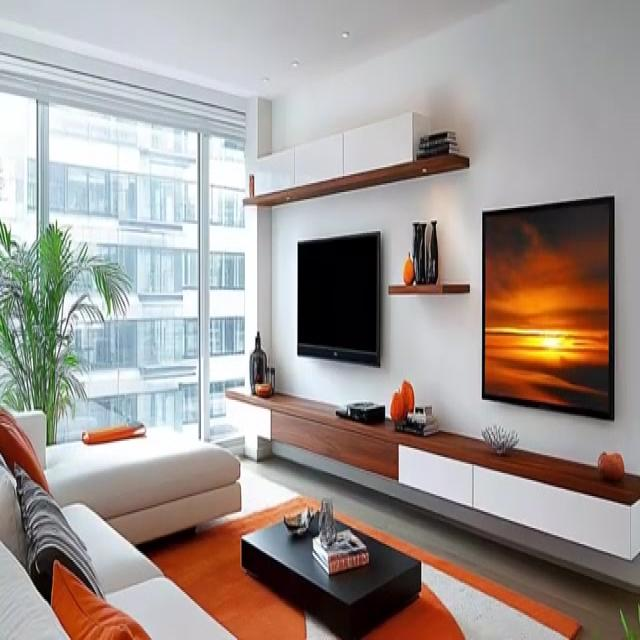obstacle: (0, 407, 242, 640), (240, 507, 421, 638)
